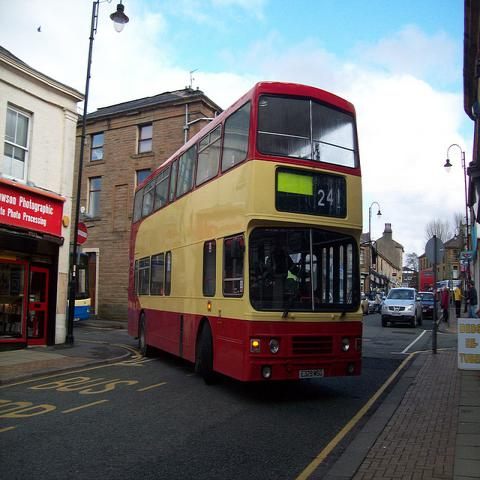bus: (127, 81, 364, 383)
car: (381, 287, 423, 329), (73, 291, 91, 322), (419, 291, 438, 319), (361, 292, 369, 315), (366, 298, 376, 314)
